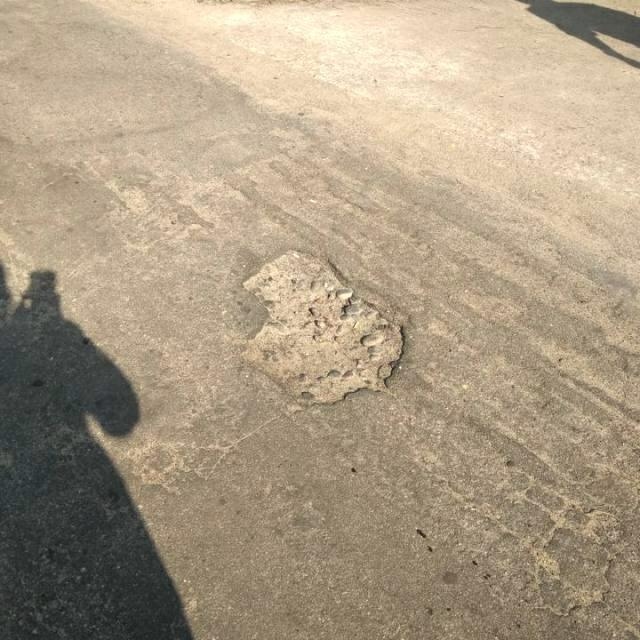Pothole: (239, 247, 412, 408)
